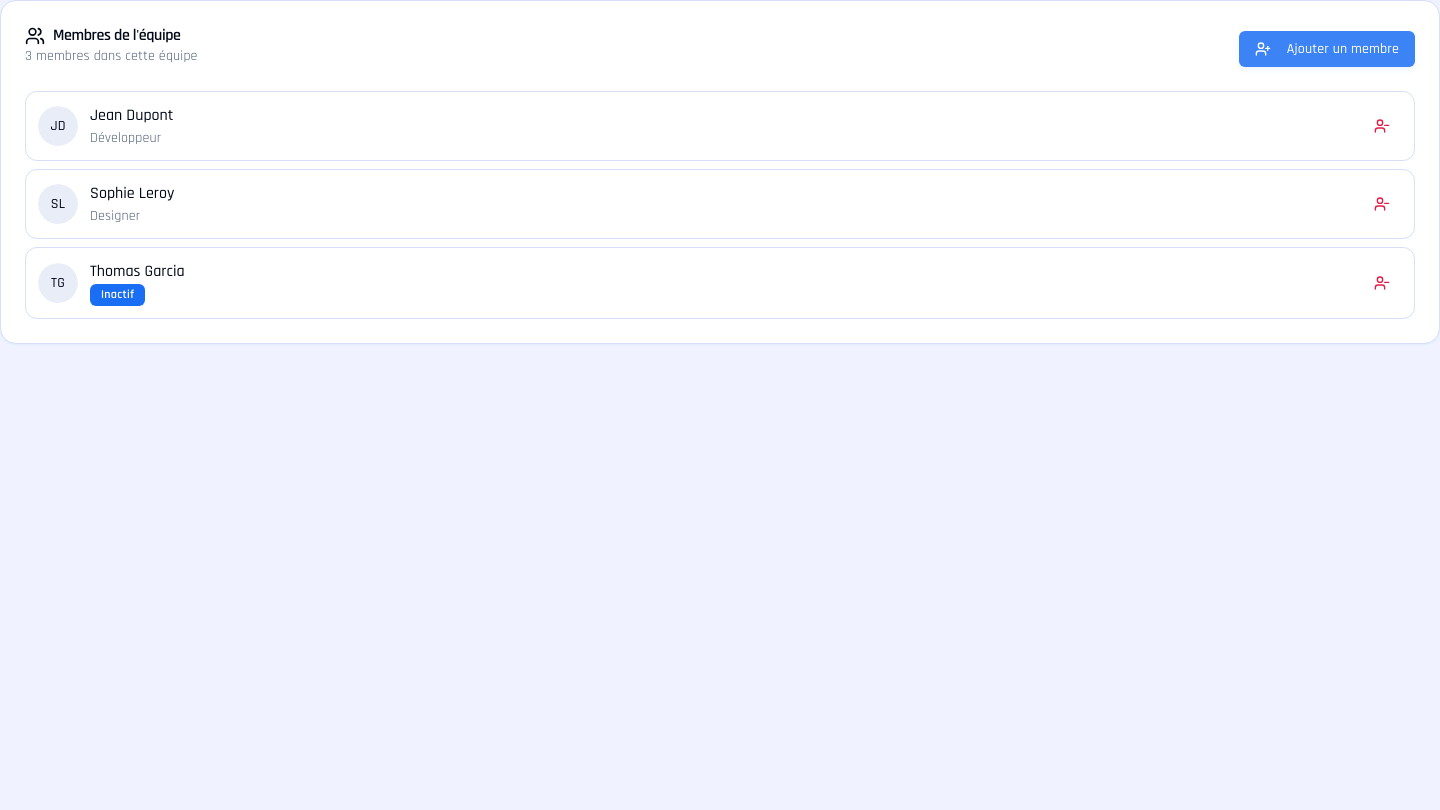
Scenario: TeamMembersManager › Suppression de membre › permet d annuler la suppression
This screenshot has width=1440, height=810.
Click the button without text in the row of "Jean Dupont" at coordinates (1382, 126), box [1362,110,1402,142]
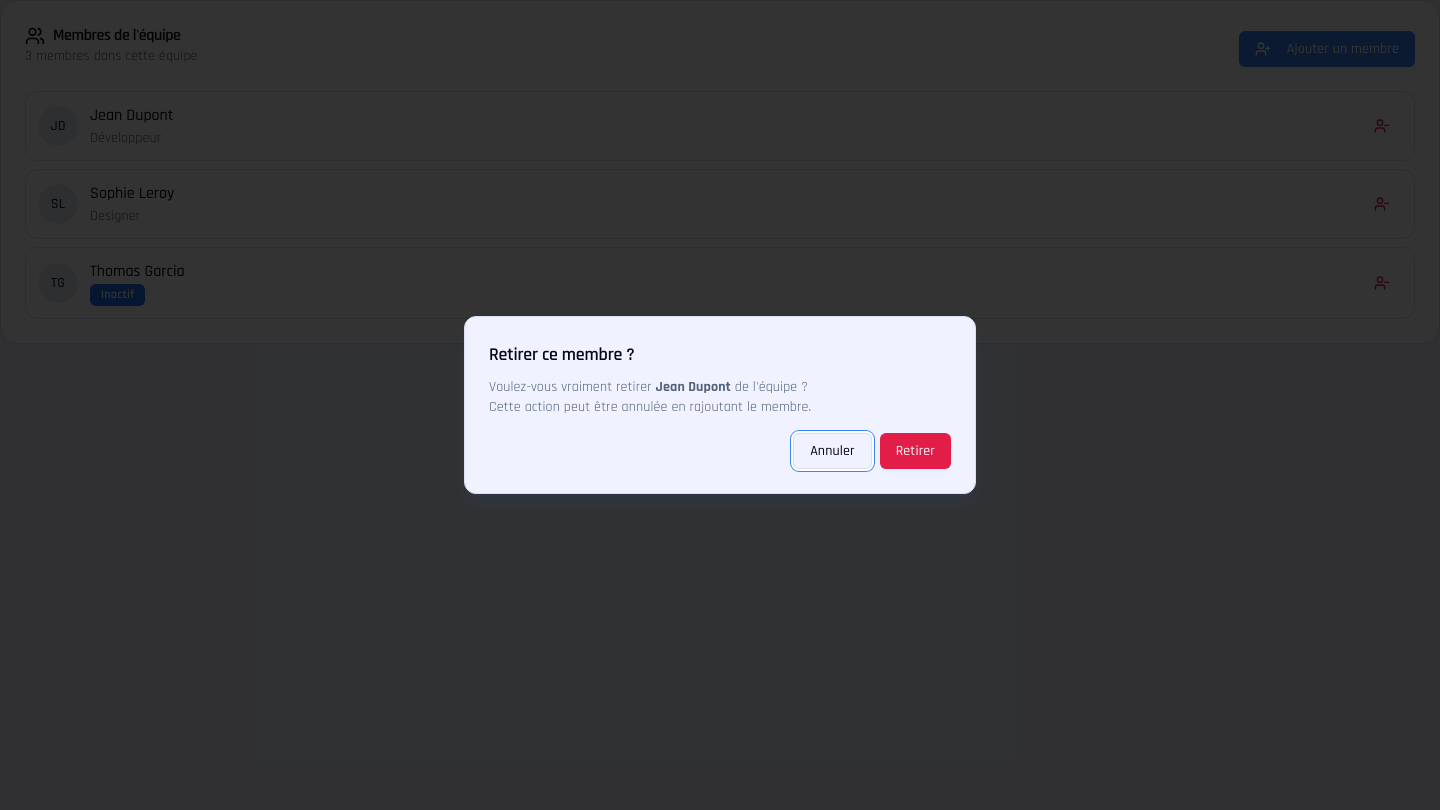
Result: the heading "Retirer ce membre ?" is shown at [489,343,635,366]
Click the button "Annuler" at coordinates (832, 451), box [793,433,872,469]
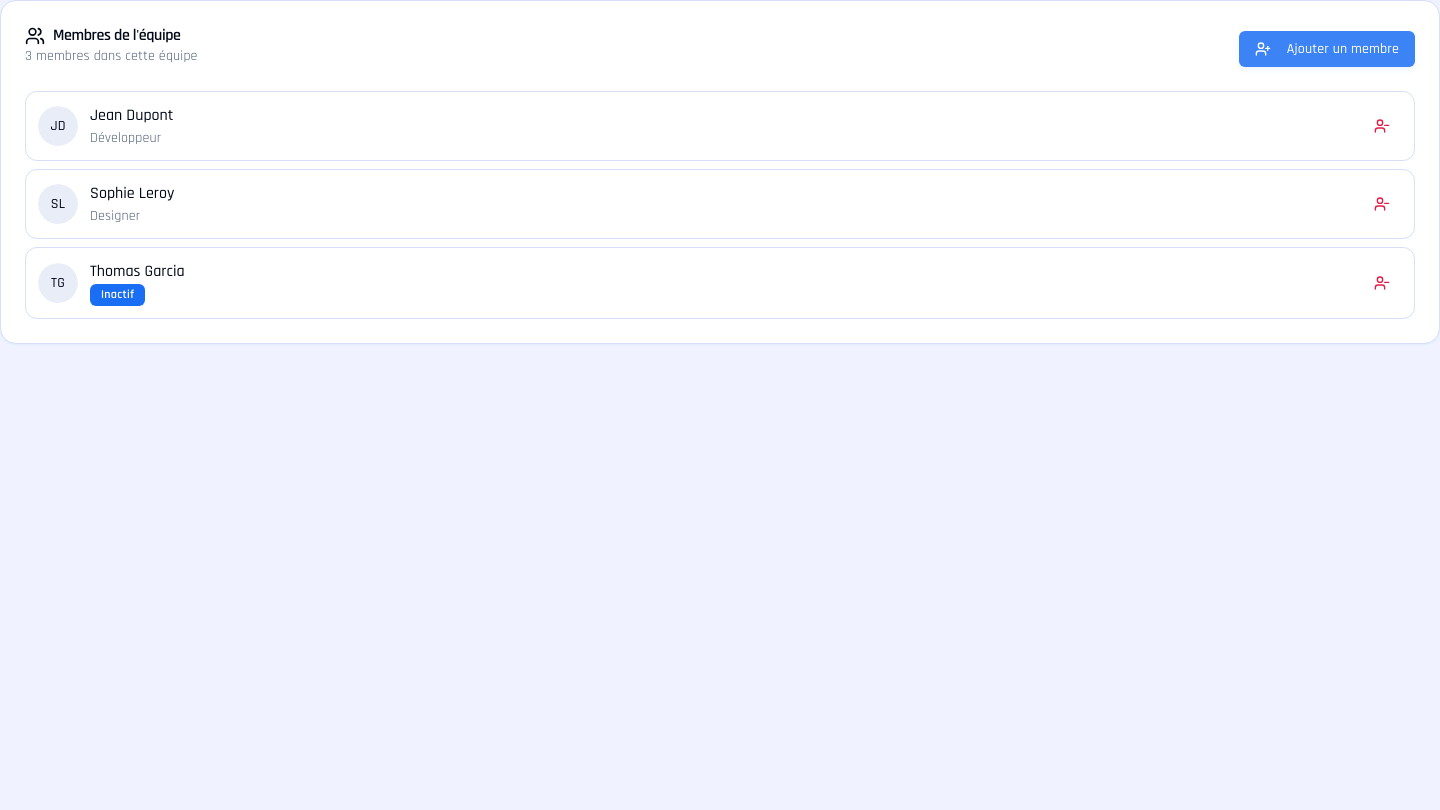
Result: the heading "Retirer ce membre ?" is gone
